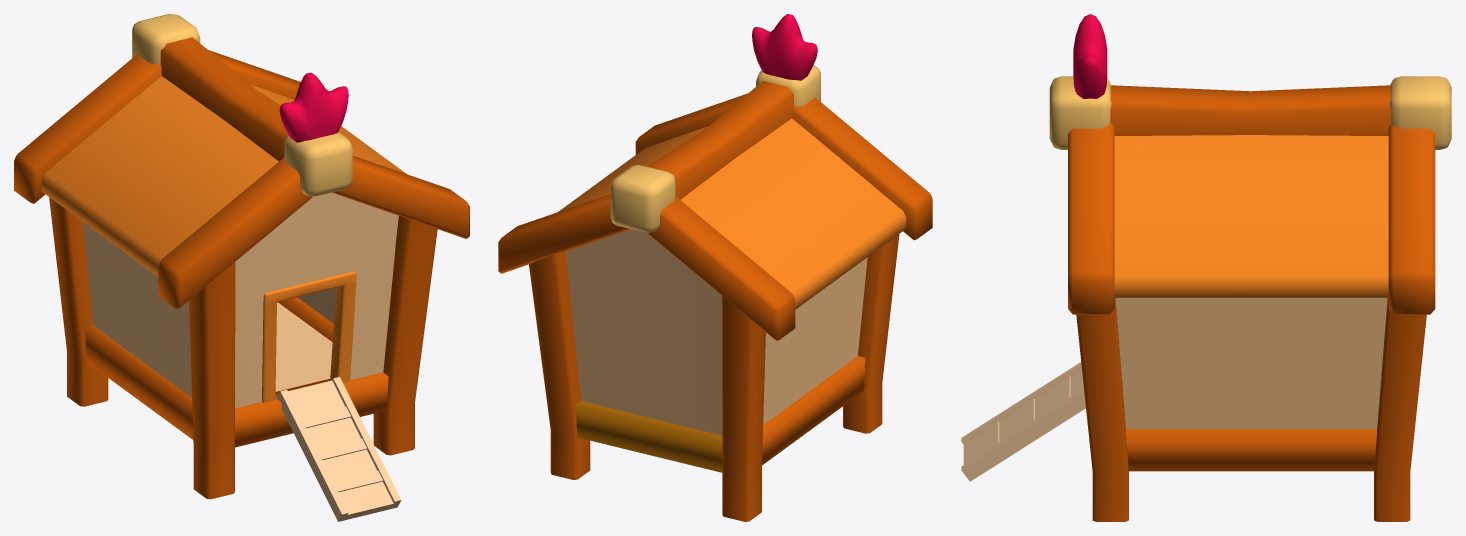
Rendered from Farm_Animal_Props_Chicken_Coop_01.fbx.
3 renders of one model, left to right at view 1: azimuth 30°, elevation 25°; view 2: azimuth 150°, elevation 25°; view 3: azimuth 270°, elevation 25°, orthographic. The views are drawn at different scales.
Parts seen in each view (by area): view 1: Farm_Animal_Props_Chicken_Coop_01; view 2: Farm_Animal_Props_Chicken_Coop_01; view 3: Farm_Animal_Props_Chicken_Coop_01.
Boxes of the visible parts, x1,y1,x2,y2 form: Farm_Animal_Props_Chicken_Coop_01: (14,14,469,521); Farm_Animal_Props_Chicken_Coop_01: (498,14,932,521); Farm_Animal_Props_Chicken_Coop_01: (961,14,1451,521).
Size of the model in its own units: 245 by 320 by 317.
